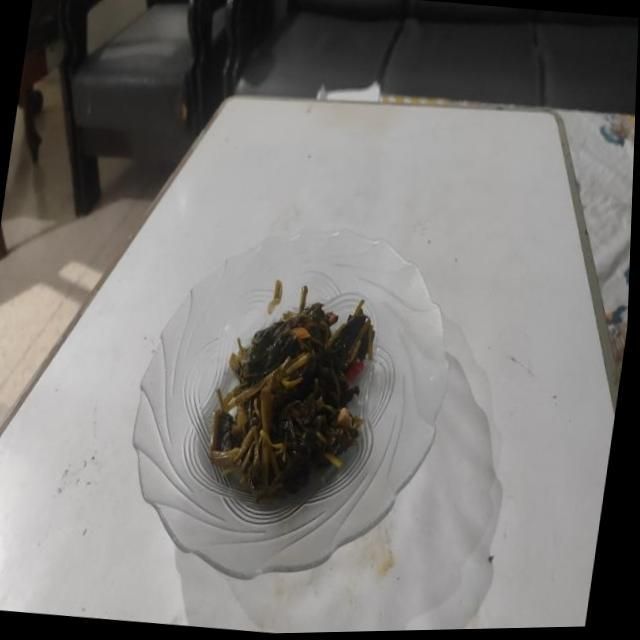tumis_kangkung: (209, 286, 374, 501)
